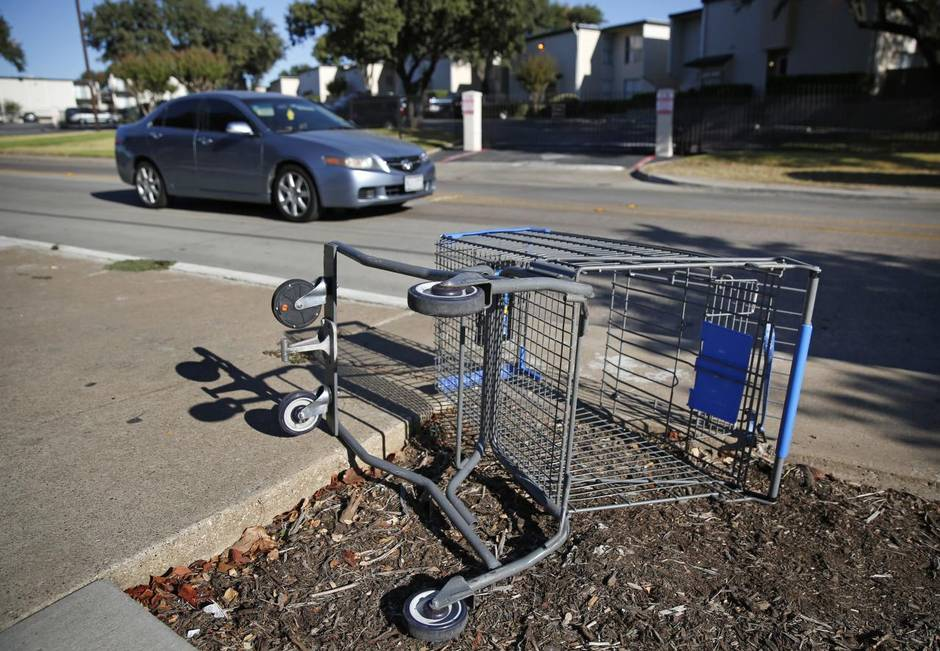Car: (106, 93, 442, 222)
Tree: (278, 1, 520, 130)
shopping_cart: (264, 213, 808, 640)
